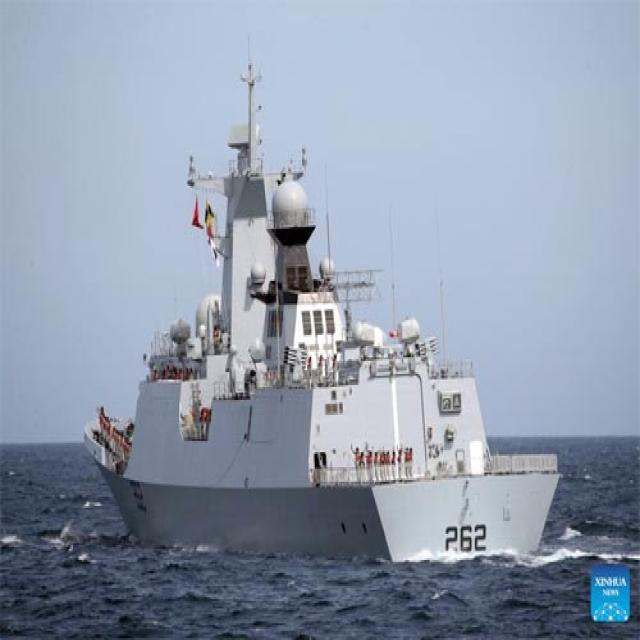Frigate-Tughril-Class-PAK: (74, 30, 564, 573)
